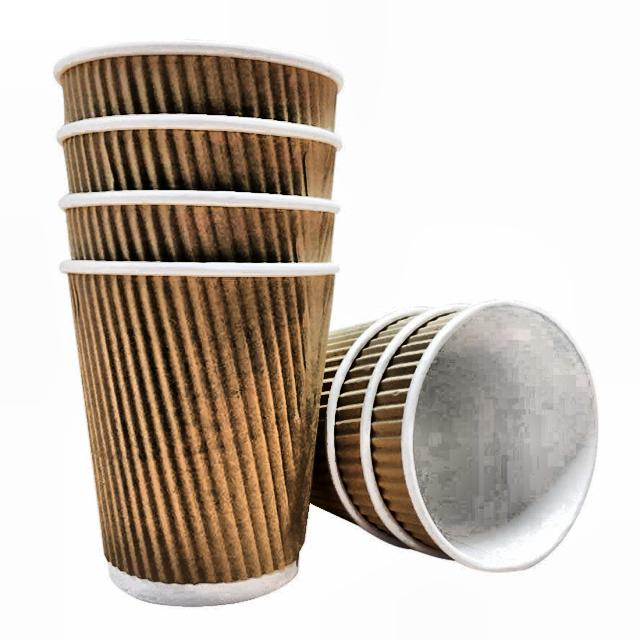Cup: (52, 35, 330, 595), (283, 289, 611, 583)
